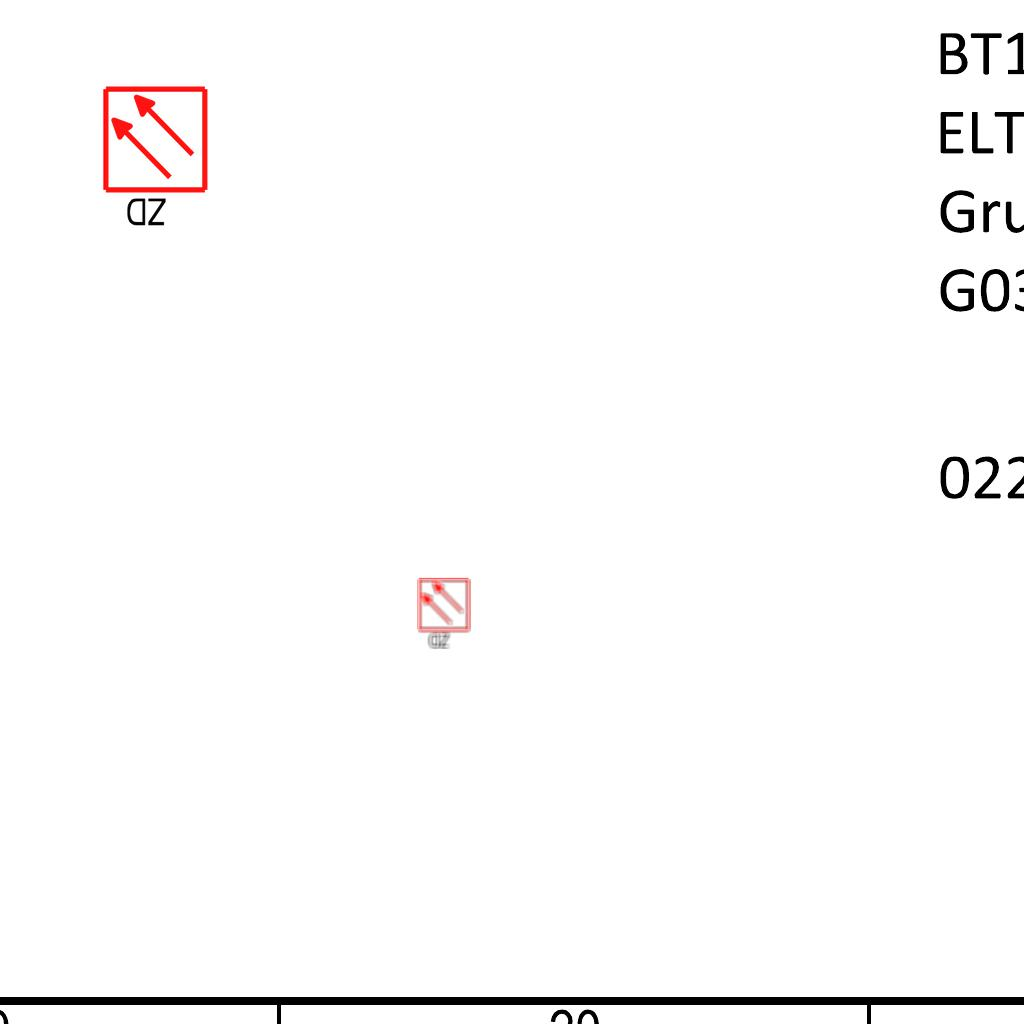ZD_Melder_in_Zwischendecke_mit_Revisionsoeffnung_mind_40_x_40_cm: (100, 84, 214, 233), (416, 577, 473, 651)
